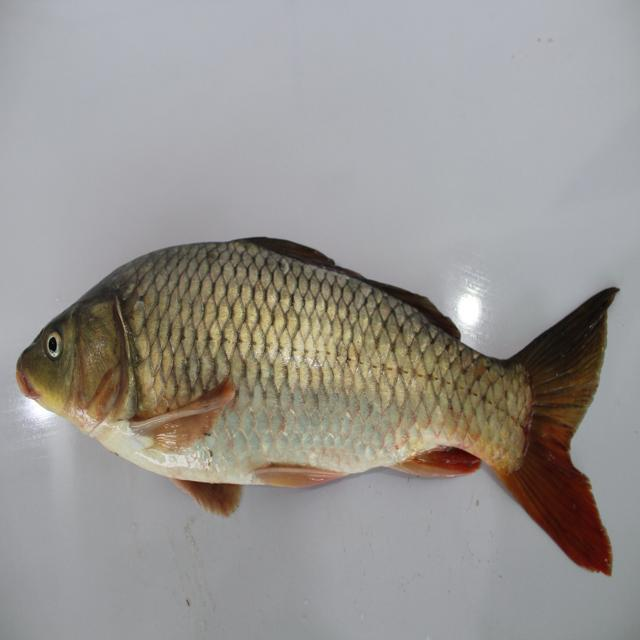CommonCarp: (23, 226, 626, 580)
